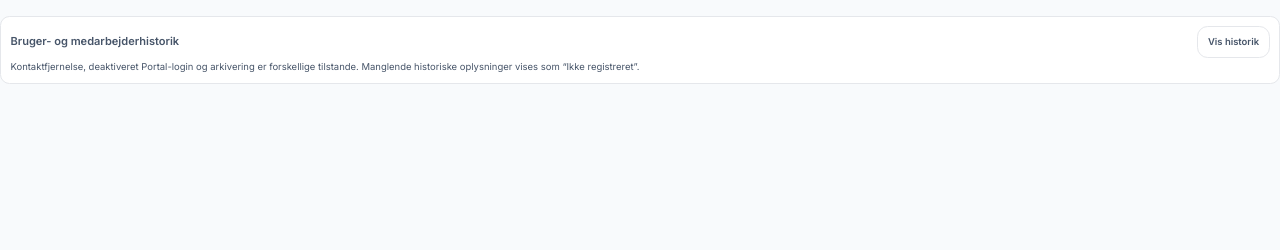
Test case: Backend documented history › shows contact removal separately from login deactivation
Click the button "Vis historik" at (1234, 42), box [1198,26,1270,58]
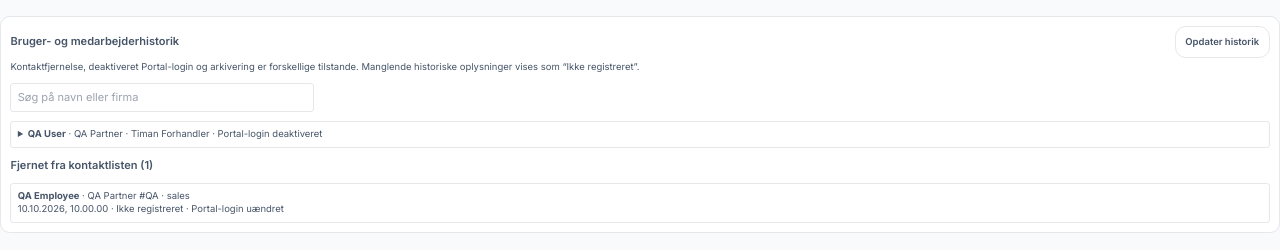
Now the heading "Fjernet fra kontaktlisten (1)" is shown, box [10,158,153,172]
Now the text "Portal-login uændret" is shown, box [183,203,284,214]
Now the heading "Portal-login deaktiveret" is shown, box [28,128,322,139]
